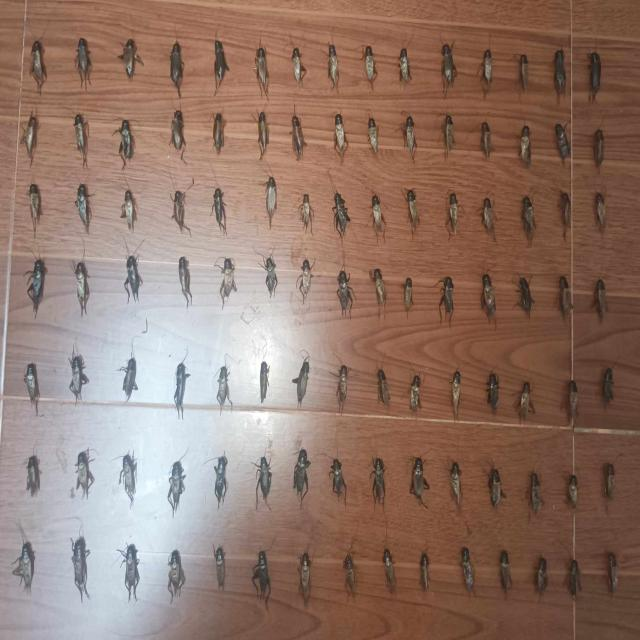egg: (12, 527, 35, 592), (71, 535, 89, 602), (27, 258, 47, 315), (251, 550, 271, 607), (69, 346, 89, 402), (121, 543, 140, 600), (113, 119, 135, 168), (167, 461, 186, 517), (293, 449, 311, 504), (119, 452, 137, 506), (167, 550, 186, 601), (30, 40, 48, 93), (292, 357, 310, 409), (75, 449, 94, 497), (174, 361, 190, 418), (410, 457, 429, 504), (336, 270, 355, 317), (255, 456, 272, 508), (220, 258, 237, 309), (441, 43, 457, 97), (120, 353, 138, 401), (122, 39, 144, 78), (124, 255, 142, 302), (21, 112, 37, 164), (74, 261, 89, 316), (487, 466, 506, 509), (76, 38, 92, 89), (258, 336, 270, 404), (214, 40, 229, 94), (74, 113, 89, 167), (170, 41, 184, 97), (76, 184, 92, 233), (333, 192, 350, 238), (214, 454, 228, 509), (24, 363, 39, 414), (371, 457, 386, 507), (372, 268, 387, 318), (439, 276, 454, 325), (172, 190, 189, 233), (482, 274, 496, 326), (171, 111, 186, 159), (296, 259, 312, 304), (298, 550, 311, 605), (330, 459, 347, 501), (254, 46, 268, 96), (178, 256, 192, 306), (212, 188, 227, 234), (334, 113, 348, 162), (553, 49, 566, 101), (406, 189, 420, 237), (121, 189, 137, 231), (481, 41, 493, 95), (292, 113, 306, 159), (265, 175, 277, 228), (263, 255, 278, 297), (216, 366, 231, 408), (382, 548, 396, 592), (26, 455, 41, 496), (28, 184, 41, 231), (372, 194, 386, 237), (589, 52, 601, 102), (461, 547, 474, 592), (519, 277, 534, 316), (404, 115, 417, 160), (555, 123, 570, 162), (336, 364, 348, 412), (593, 279, 607, 320), (292, 48, 306, 88), (445, 193, 458, 236), (522, 196, 535, 239), (450, 462, 462, 508), (559, 191, 570, 241), (568, 559, 581, 601), (519, 125, 532, 167), (487, 372, 499, 417), (559, 276, 571, 320), (343, 553, 356, 593), (451, 369, 461, 421), (364, 45, 376, 88), (377, 369, 390, 408), (258, 112, 269, 158), (499, 550, 511, 592), (482, 197, 494, 239), (534, 557, 547, 595), (409, 374, 422, 412), (328, 44, 339, 88), (214, 545, 225, 589), (399, 49, 412, 86), (568, 380, 578, 428), (530, 471, 541, 514), (603, 462, 615, 501), (213, 113, 224, 154), (444, 114, 454, 159), (607, 552, 618, 592), (593, 128, 604, 168), (519, 382, 530, 420), (603, 367, 614, 405), (300, 194, 311, 232), (481, 122, 492, 159), (596, 192, 606, 230), (567, 474, 578, 508), (519, 54, 529, 91), (368, 116, 378, 153), (420, 551, 429, 590), (404, 277, 413, 313), (452, 373, 460, 391), (334, 470, 342, 478)
